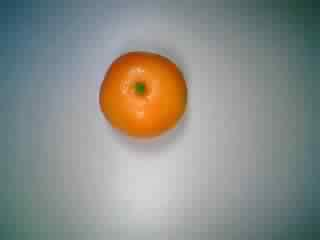orange: (97, 40, 192, 142)
